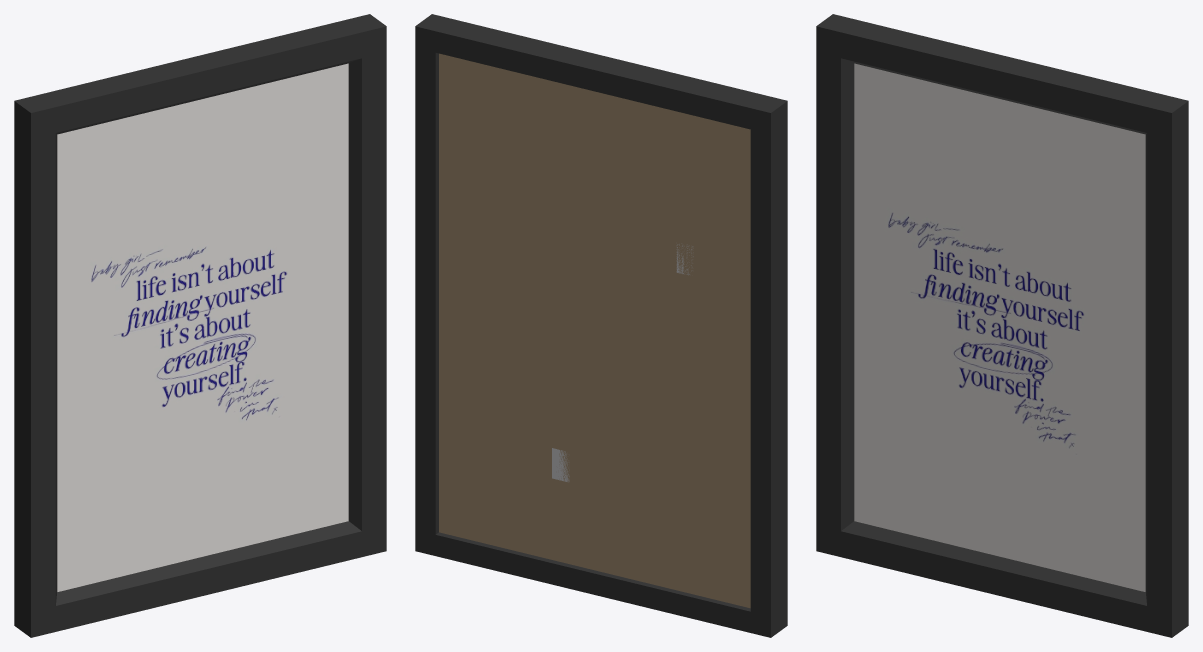
The model's file is creating-yourself-20x30.glb.
3 views of the same model, side by side, from view 1: azimuth 30°, elevation 25°; view 2: azimuth 150°, elevation 25°; view 3: azimuth 330°, elevation 25° (orthographic).
Parts seen in each view (by area): view 1: LAWHA 20x30; view 2: LAWHA 20x30; view 3: LAWHA 20x30.
Part boxes in pixels (<box>): LAWHA 20x30: <box>14,14,386,637</box>; LAWHA 20x30: <box>415,14,787,637</box>; LAWHA 20x30: <box>816,14,1188,637</box>.
Bounding box in the file's own units: 0.244 × 0.344 × 0.02.
4 materials, 1 textured.
